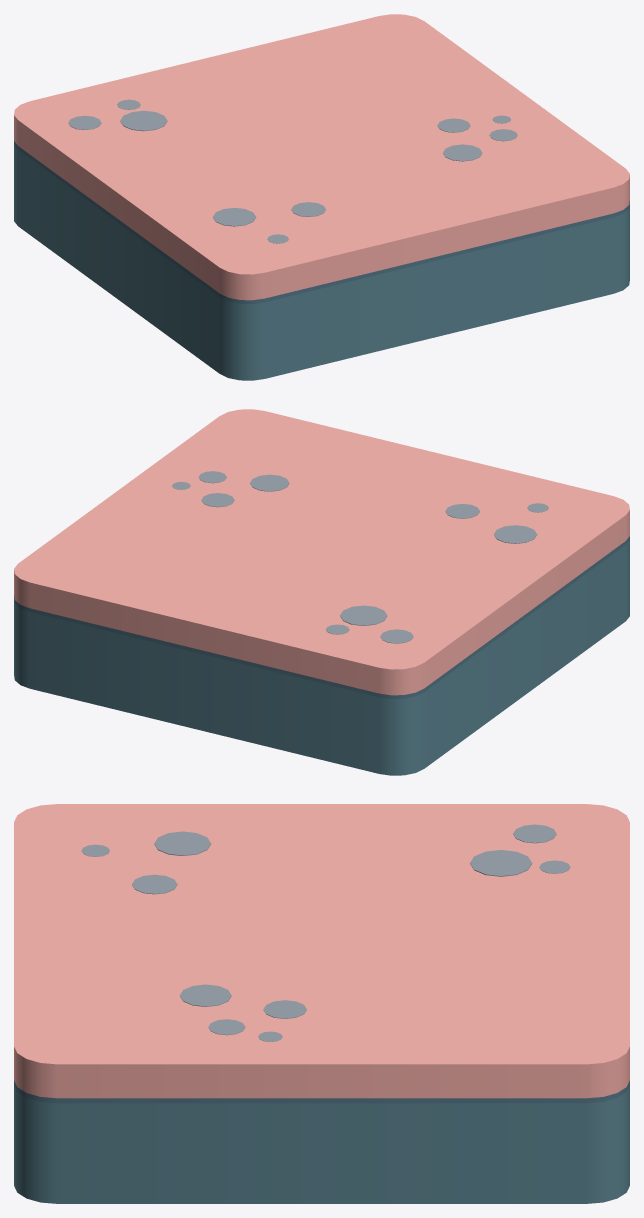
Rendered from BlueIsland.fbx.
The picture shows the model from 3 angles, top to bottom: view 1: azimuth 30°, elevation 25°; view 2: azimuth 150°, elevation 25°; view 3: azimuth 270°, elevation 25°; orthographic projection. The views are drawn at different scales.
Parts seen in each view (by area): view 1: Plane; view 2: Plane; view 3: Plane.
Boxes of the visible parts, x1,y1,x2,y2 form: Plane: (14,14,629,380); Plane: (14,409,629,775); Plane: (14,804,629,1203).
Bounding box in the file's own units: 800 × 201 × 800.
